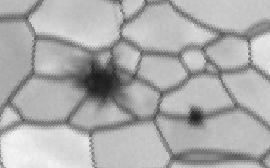good_void: (62, 47, 128, 113), (184, 101, 210, 132)
